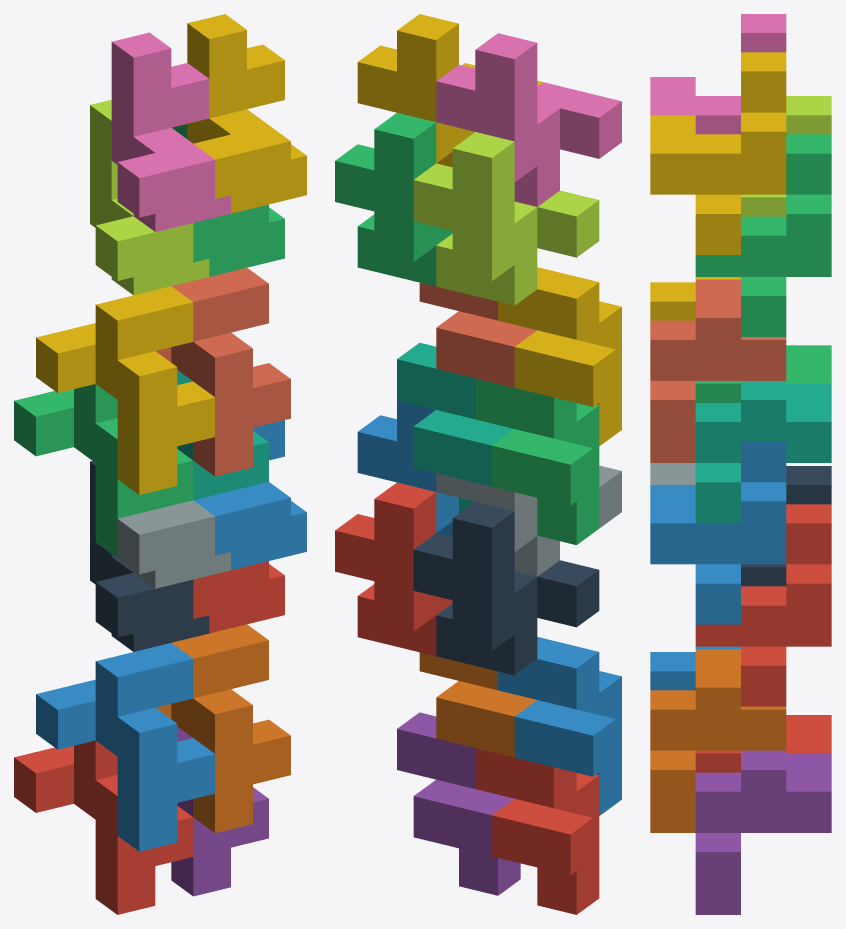
Rendered from tiling.obj.
The picture shows the model from 3 angles, left to right: view 1: azimuth 30°, elevation 25°; view 2: azimuth 150°, elevation 25°; view 3: azimuth 270°, elevation 25°; orthographic projection. The views are drawn at different scales.
Visible parts, largest first — view 1: copy_1_domain_4, copy_1_domain_2, copy_2_domain_4, copy_2_domain_8, copy_1_domain_6, copy_1_domain_8, copy_1_domain_1, copy_1_domain_3, copy_2_domain_3, copy_2_domain_1, copy_2_domain_6, copy_2_domain_2 (+4 smaller); view 2: copy_2_domain_1, copy_2_domain_3, copy_2_domain_4, copy_1_domain_1, copy_1_domain_3, copy_1_domain_2, copy_1_domain_4, copy_2_domain_5, copy_2_domain_7, copy_1_domain_5, copy_1_domain_7, copy_2_domain_8 (+4 smaller); view 3: copy_2_domain_8, copy_2_domain_6, copy_1_domain_5, copy_1_domain_6, copy_1_domain_8, copy_2_domain_5, copy_2_domain_7, copy_1_domain_7, copy_2_domain_4, copy_1_domain_1, copy_2_domain_1, copy_2_domain_3 (+4 smaller).
Boxes of the visible parts, x1=… form: copy_1_domain_4: x1=36, y1=286, x2=214, y2=494; copy_1_domain_2: x1=36, y1=643, x2=214, y2=851; copy_2_domain_4: x1=111, y1=32, x2=230, y2=231; copy_2_domain_8: x1=187, y1=14, x2=306, y2=213; copy_1_domain_6: x1=156, y1=624, x2=290, y2=833; copy_1_domain_8: x1=156, y1=268, x2=290, y2=476; copy_1_domain_1: x1=14, y1=740, x2=193, y2=914; copy_1_domain_3: x1=14, y1=384, x2=193, y2=557; copy_2_domain_3: x1=90, y1=99, x2=209, y2=295; copy_2_domain_1: x1=90, y1=461, x2=209, y2=651; copy_2_domain_6: x1=194, y1=420, x2=306, y2=570; copy_2_domain_2: x1=117, y1=500, x2=230, y2=588; copy_2_domain_1: x1=413, y1=501, x2=599, y2=675; copy_2_domain_3: x1=413, y1=132, x2=599, y2=305; copy_2_domain_4: x1=436, y1=33, x2=621, y2=206; copy_1_domain_1: x1=475, y1=748, x2=599, y2=914; copy_1_domain_3: x1=475, y1=378, x2=599, y2=544; copy_1_domain_2: x1=498, y1=637, x2=621, y2=815; copy_1_domain_4: x1=498, y1=267, x2=621, y2=445; copy_2_domain_5: x1=335, y1=482, x2=452, y2=656; copy_2_domain_7: x1=335, y1=113, x2=452, y2=286; copy_1_domain_5: x1=397, y1=712, x2=520, y2=895; copy_1_domain_7: x1=397, y1=342, x2=514, y2=513; copy_2_domain_8: x1=357, y1=14, x2=542, y2=167; copy_2_domain_8: x1=650, y1=52, x2=786, y2=254; copy_2_domain_6: x1=650, y1=441, x2=786, y2=624; copy_1_domain_5: x1=695, y1=750, x2=831, y2=914; copy_1_domain_6: x1=650, y1=649, x2=786, y2=832; copy_1_domain_8: x1=650, y1=279, x2=786, y2=462; copy_2_domain_5: x1=695, y1=504, x2=831, y2=706; copy_2_domain_7: x1=695, y1=134, x2=831, y2=336; copy_1_domain_7: x1=695, y1=381, x2=831, y2=523; copy_2_domain_4: x1=650, y1=14, x2=786, y2=134; copy_1_domain_1: x1=695, y1=715, x2=831, y2=772; copy_2_domain_1: x1=741, y1=466, x2=831, y2=586; copy_2_domain_3: x1=741, y1=96, x2=831, y2=216.
Bounding box in the file's own units: 6 × 21 × 4.
